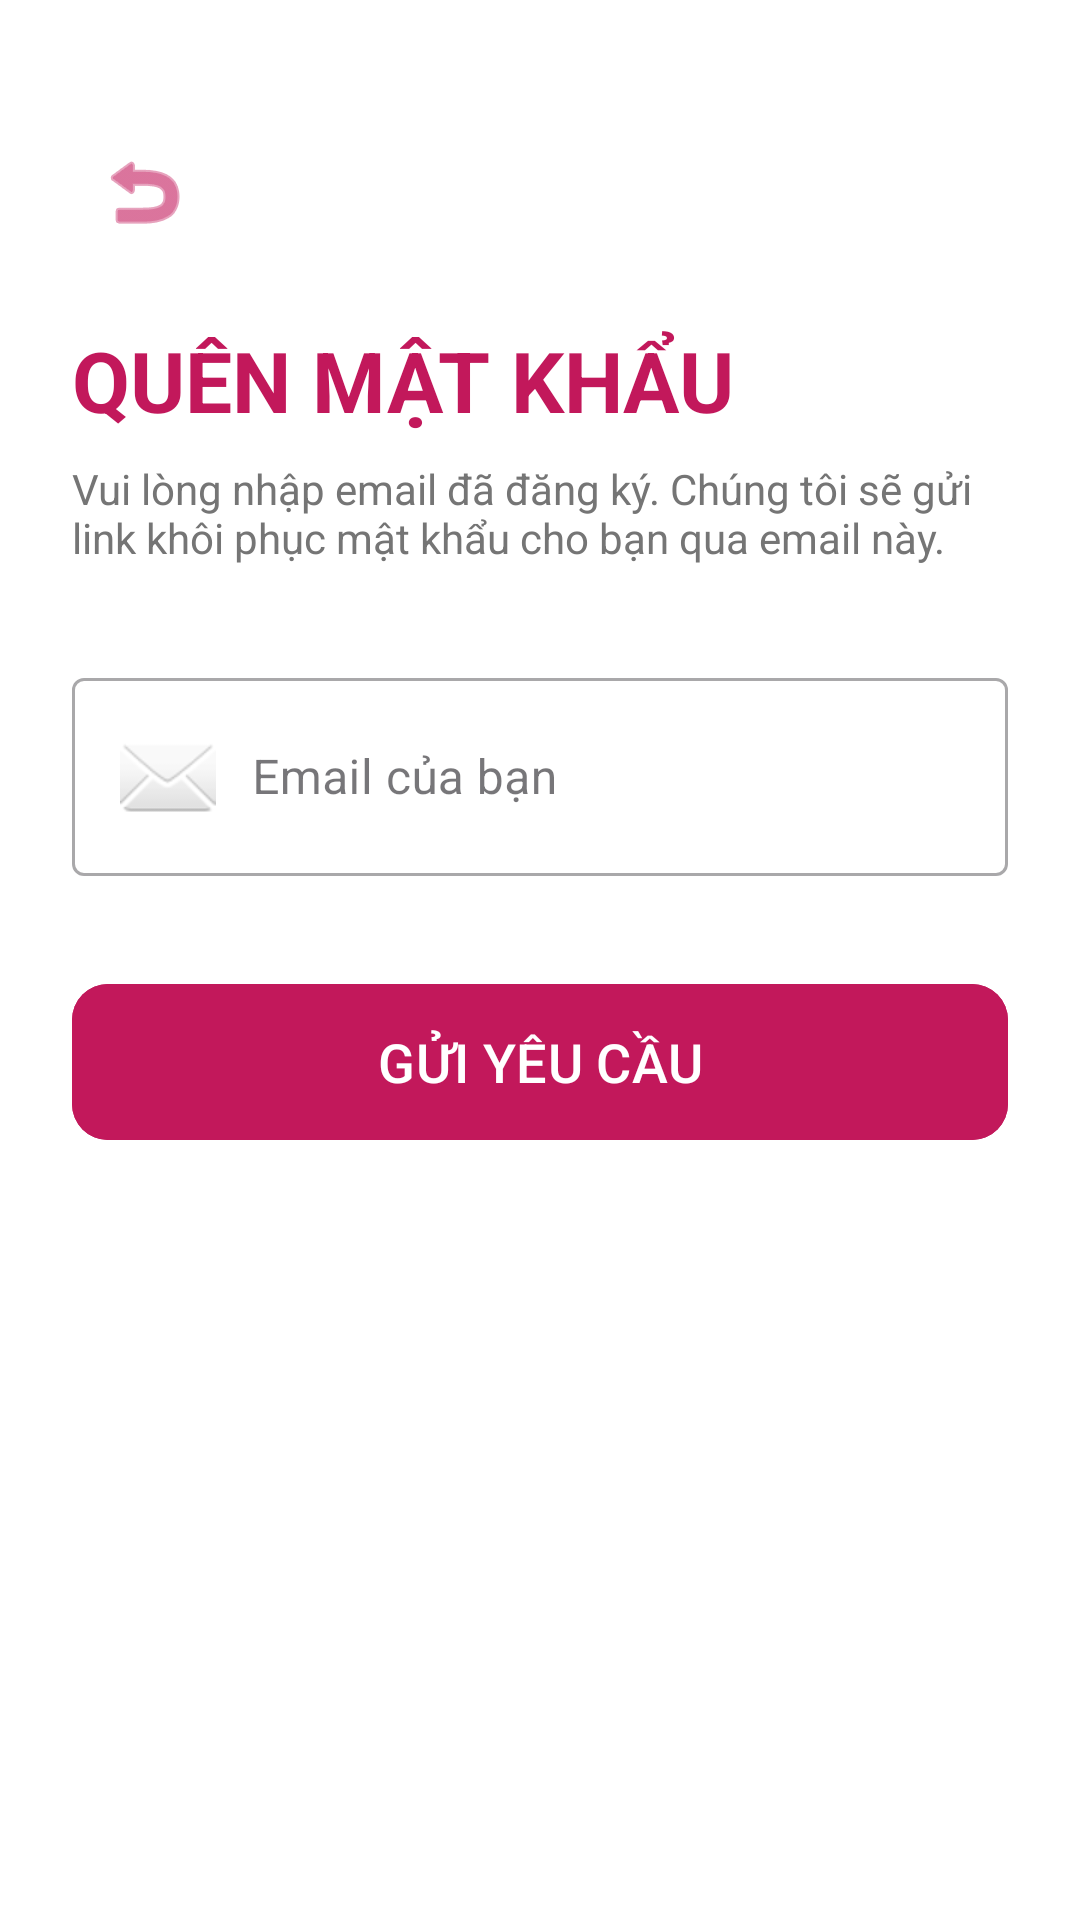

Screen size 1080 x 1920. Icon name, then its center in pixels as point (x, y):
Quay lại: point (145, 192)
